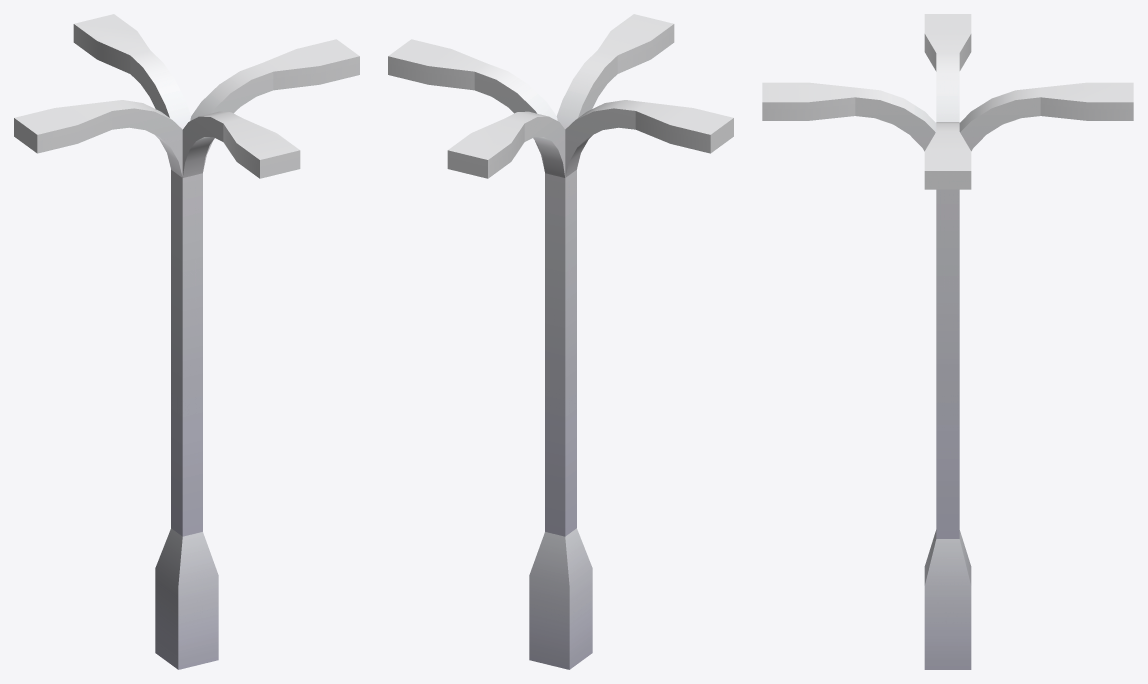
Rendered from light-curved-cross.glb.
3 views of the same model, side by side, from view 1: azimuth 30°, elevation 25°; view 2: azimuth 150°, elevation 25°; view 3: azimuth 270°, elevation 25° (orthographic).
Visible parts, largest first — view 1: light-curved-cross; view 2: light-curved-cross; view 3: light-curved-cross.
Boxes of the visible parts, <box> form: light-curved-cross: <box>14,14,359,669</box>; light-curved-cross: <box>388,14,733,669</box>; light-curved-cross: <box>762,14,1133,669</box>.
Size of the model in its own units: 0.4 by 0.675 by 0.4.
Materials: 1 (1 with a texture image).
